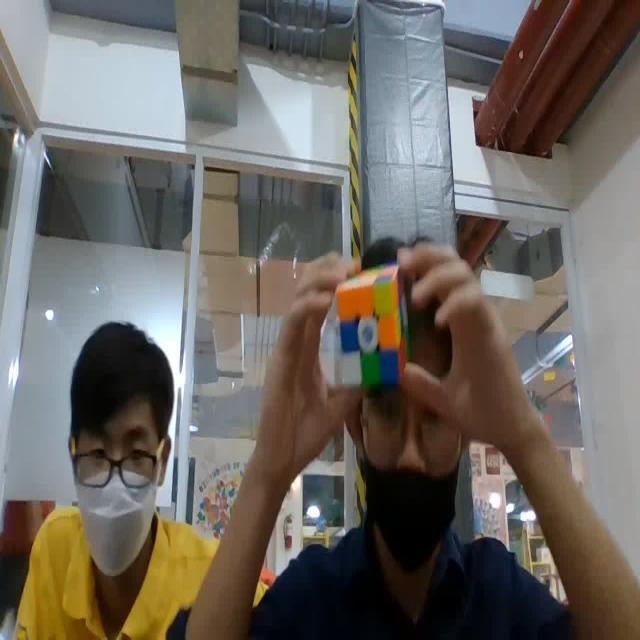Rub: (330, 270, 405, 395)
